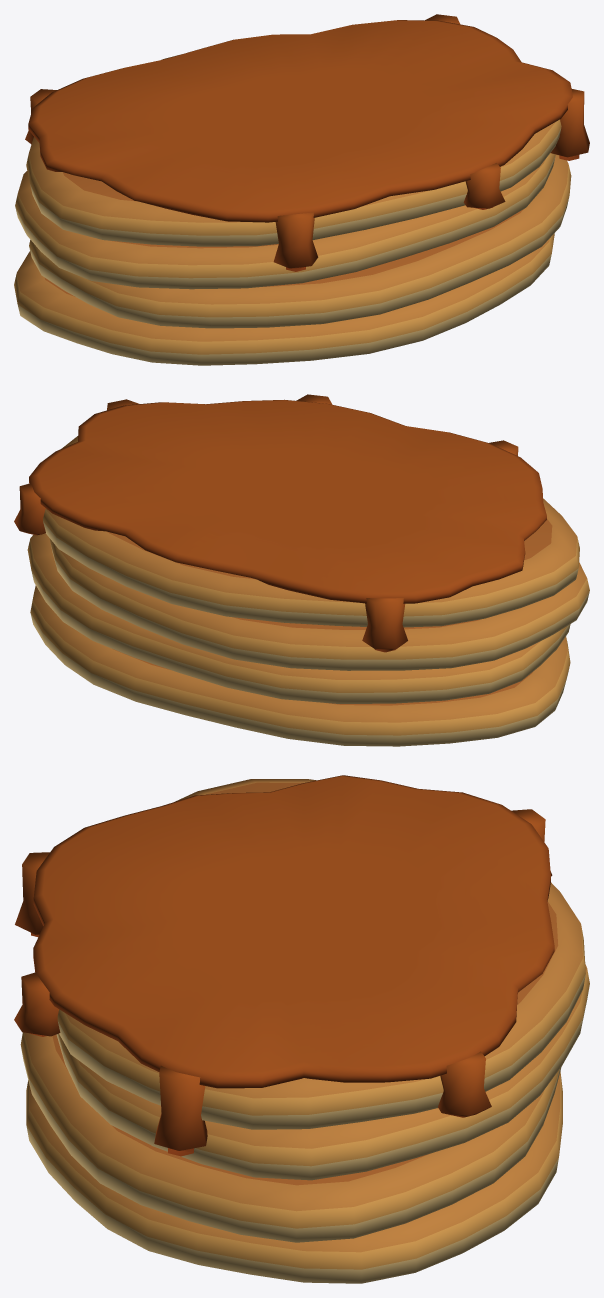
File: pet_mount_pancakes.fbx
3 views of the same model, one above another, from view 1: azimuth 30°, elevation 25°; view 2: azimuth 150°, elevation 25°; view 3: azimuth 270°, elevation 25° (orthographic). The views are drawn at different scales.
Parts seen in each view (by area): view 1: pet_mount_pancakes; view 2: pet_mount_pancakes; view 3: pet_mount_pancakes.
Boxes of the visible parts, x1,y1,x2,y2 form: pet_mount_pancakes: [14, 14, 589, 365]; pet_mount_pancakes: [14, 394, 589, 746]; pet_mount_pancakes: [14, 775, 589, 1283].
Bounding box in the file's own units: 3.3 × 0.99 × 2.4.
